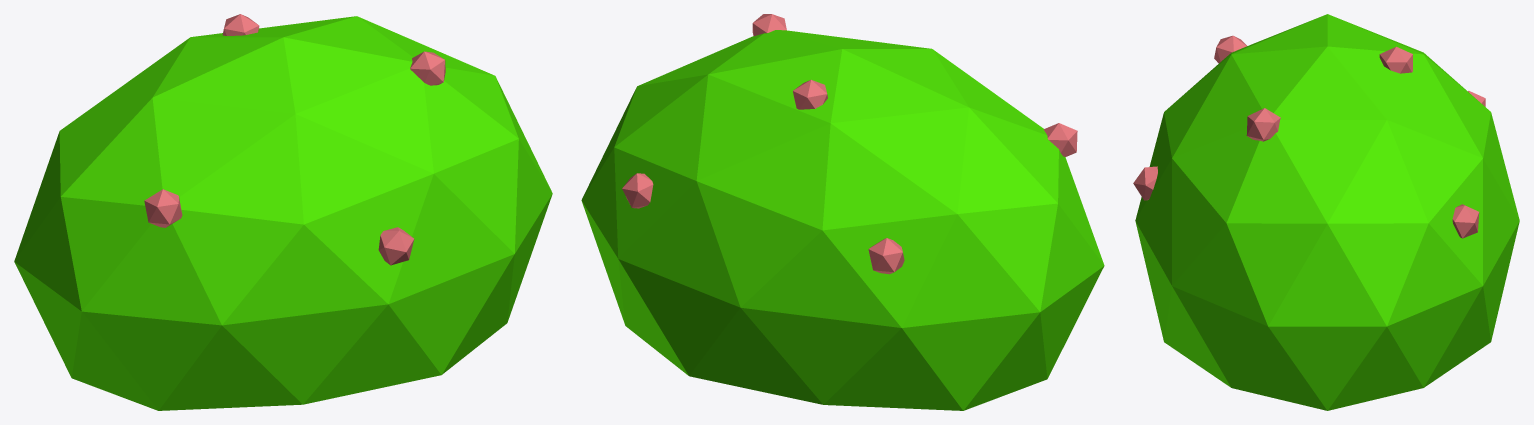
The model's file is bush1.fbx.
3 views of the same model, side by side, from view 1: azimuth 30°, elevation 25°; view 2: azimuth 150°, elevation 25°; view 3: azimuth 270°, elevation 25° (orthographic). The views are drawn at different scales.
Visible parts, largest first — view 1: Icosphere.048; view 2: Icosphere.048; view 3: Icosphere.048.
Part boxes in pixels (box(x1,y1,x2,y2)): Icosphere.048: box(14, 14, 552, 410); Icosphere.048: box(581, 14, 1104, 410); Icosphere.048: box(1133, 14, 1519, 410).
Bounding box in the file's own units: 261 × 152 × 201.
